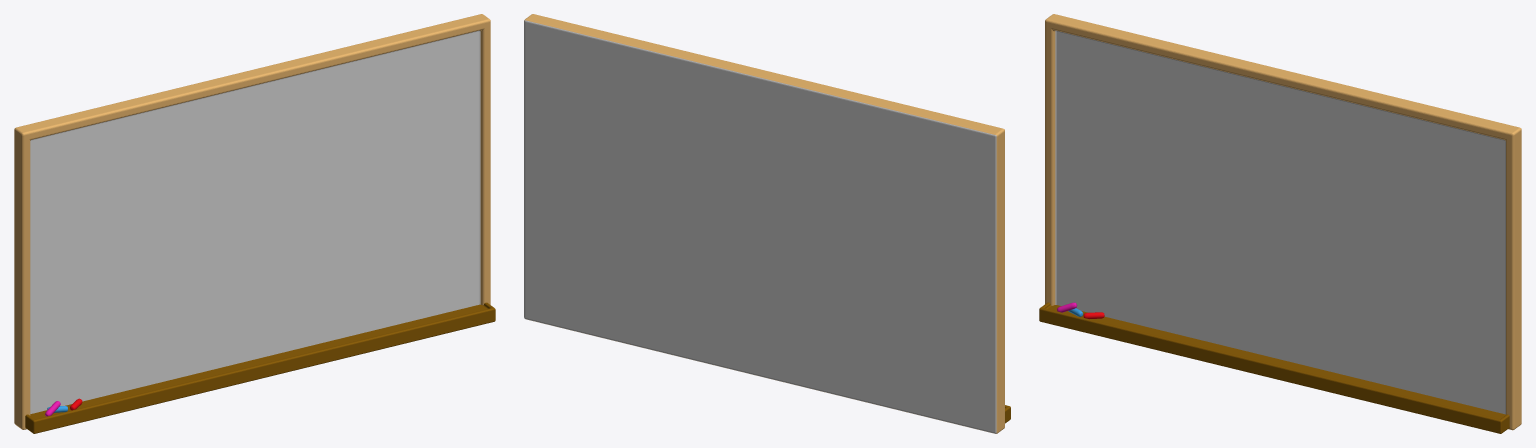
Rendered from Whiteboard.fbx.
3 renders of one model, left to right at view 1: azimuth 30°, elevation 25°; view 2: azimuth 150°, elevation 25°; view 3: azimuth 330°, elevation 25°, orthographic.
Parts seen in each view (by area): view 1: Cube, Cube.001; view 2: Cube; view 3: Cube, Cube.001.
Boxes of the visible parts, bbox=[...] form: Cube: bbox=[14, 14, 490, 429]; Cube.001: bbox=[25, 302, 495, 433]; Cube: bbox=[524, 14, 1004, 433]; Cube: bbox=[1045, 14, 1521, 430]; Cube.001: bbox=[1039, 302, 1509, 433].
Size of the model in its own units: 1180 by 714 by 75.67.
